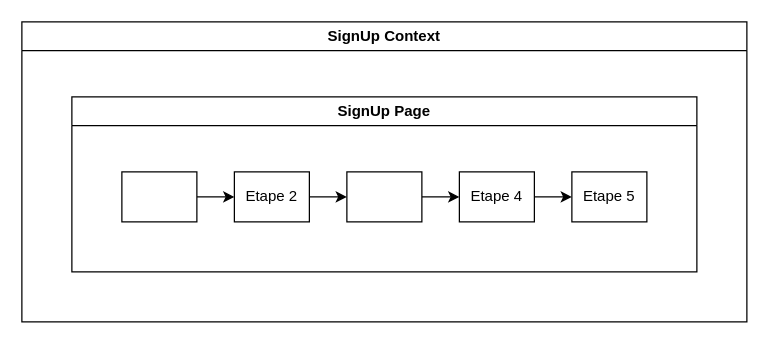
Image size: 769x344. Some labels were removed from this diagram. Here are the shapes that lost their labels. From the top down, the centre of each, then its label:
At [159,196]: "Etape 1".
At [384,196]: "Etape 3".
